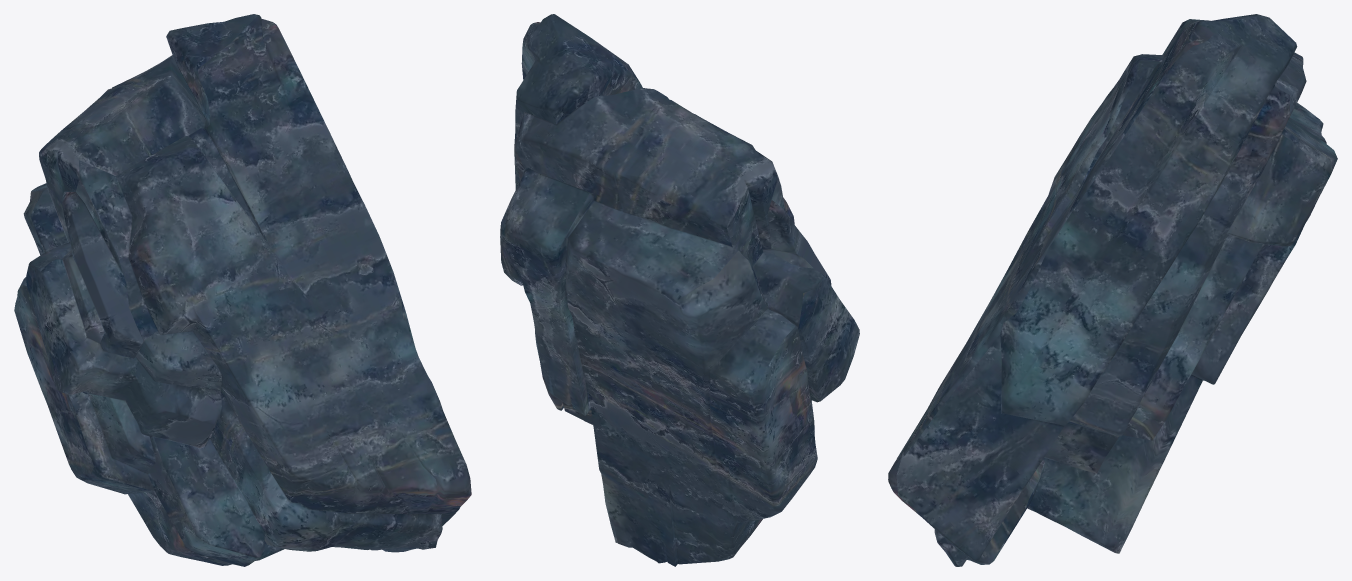
The picture shows the model from 3 angles, left to right: view 1: azimuth 30°, elevation 25°; view 2: azimuth 150°, elevation 25°; view 3: azimuth 270°, elevation 25°; orthographic projection. The views are drawn at different scales.
Visible parts, largest first — view 1: SM_Cave_Rock_Small_01_LOD0; view 2: SM_Cave_Rock_Small_01_LOD0; view 3: SM_Cave_Rock_Small_01_LOD0.
Part boxes in pixels (x1,y1,x2,y2): SM_Cave_Rock_Small_01_LOD0: (14, 14, 471, 566); SM_Cave_Rock_Small_01_LOD0: (500, 14, 859, 566); SM_Cave_Rock_Small_01_LOD0: (888, 14, 1337, 566).
Size of the model in its own units: 0.9275 by 1.43 by 1.06.
1 material, 1 textured.
